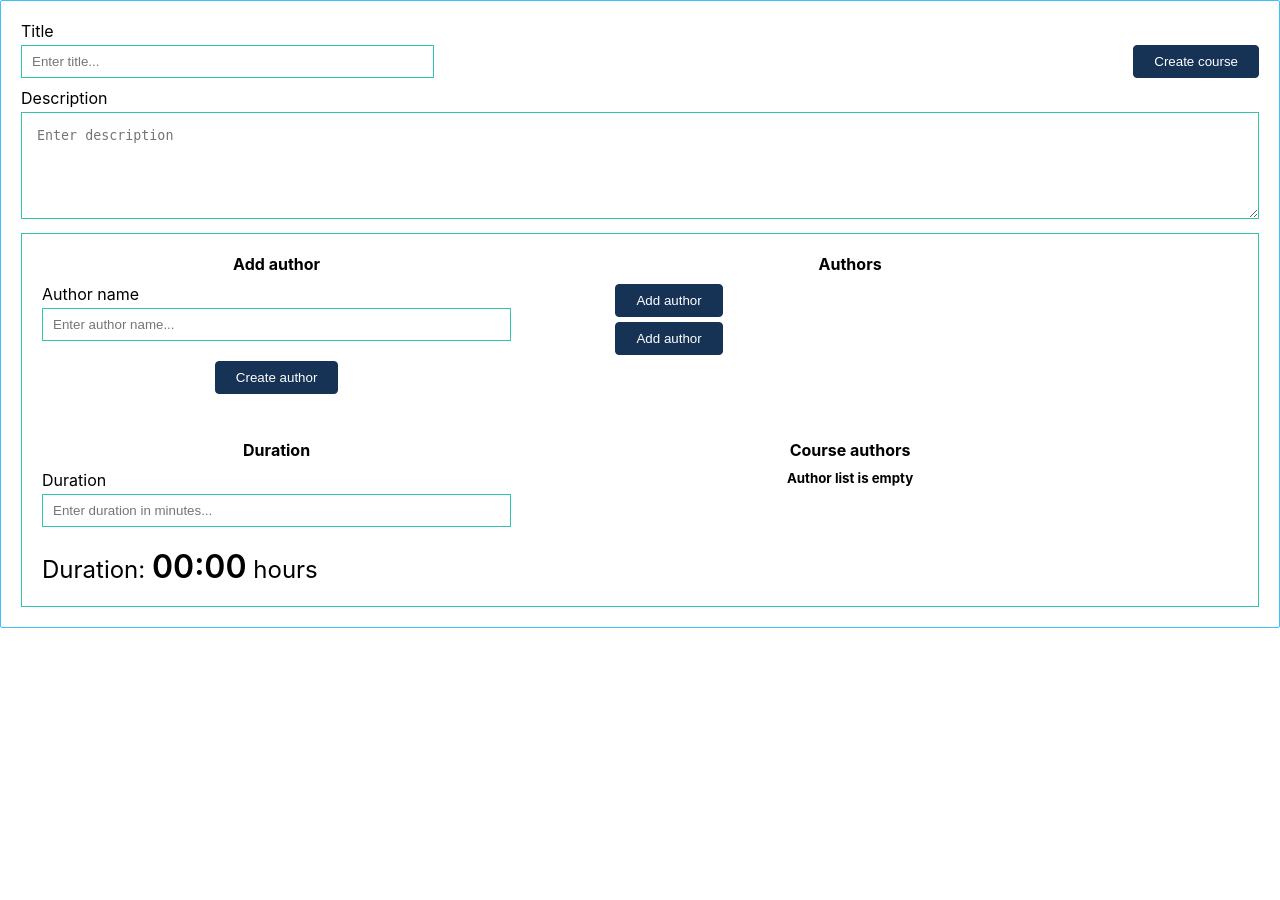
Test: CourseForm 'Add author' button click should add an author to course authors list
The image size is (1280, 900).
Click the 1st button "Add author": (669, 300) [616, 284, 723, 317]
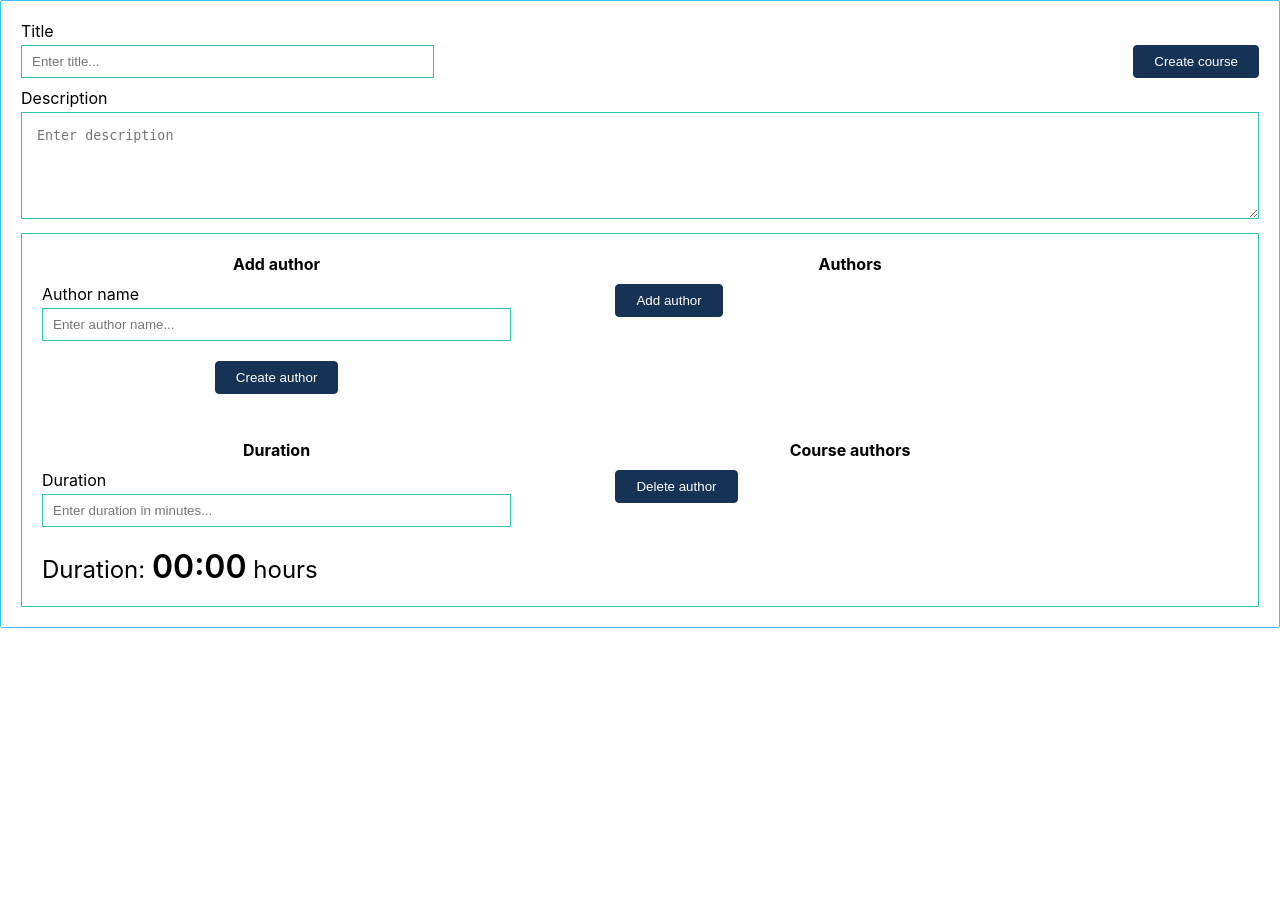
Check: the number of list items with test id "course-authors-item" is 1, box [616, 470, 738, 503]
